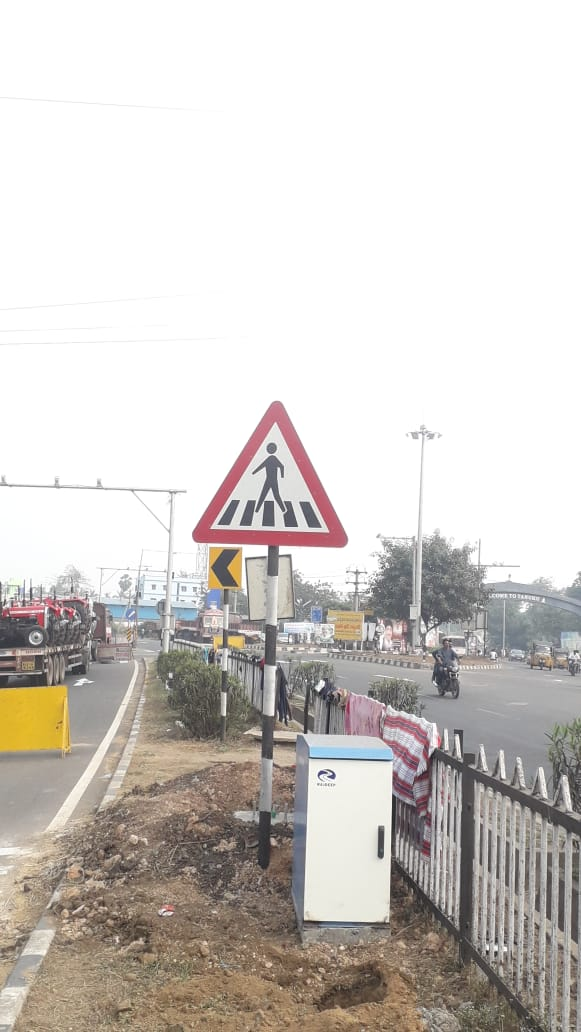pedestrian crossing: (194, 388, 340, 571)
